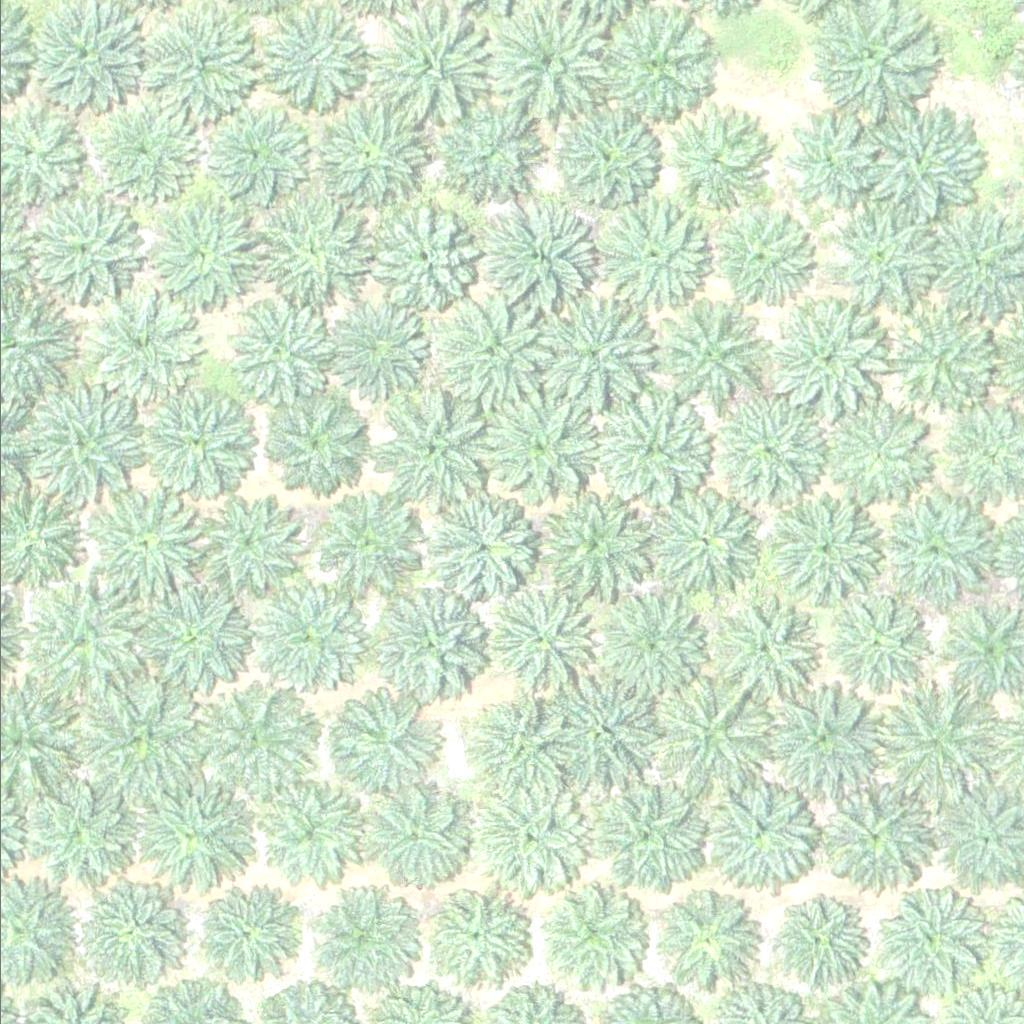Kelapa_Sawit: (460, 770, 586, 895), (855, 98, 981, 223), (594, 1, 720, 126), (243, 187, 369, 312), (133, 197, 259, 322), (368, 3, 494, 128), (8, 766, 134, 891), (25, 182, 151, 307), (250, 780, 364, 893), (328, 684, 442, 797), (137, 773, 251, 886), (143, 11, 257, 124), (88, 485, 202, 598), (659, 682, 772, 795), (546, 674, 659, 787), (481, 583, 594, 696), (770, 487, 883, 600), (774, 305, 887, 418), (647, 302, 760, 415), (534, 296, 647, 409), (600, 195, 713, 308), (426, 295, 539, 408), (483, 389, 596, 502), (194, 681, 307, 794), (189, 494, 302, 607), (143, 387, 256, 500), (368, 393, 481, 506), (323, 289, 436, 402), (73, 874, 186, 987), (88, 89, 201, 202), (29, 583, 142, 696), (819, 778, 933, 890), (706, 773, 820, 885), (880, 687, 994, 799), (477, 196, 591, 308), (361, 778, 475, 890), (373, 590, 487, 702), (87, 289, 201, 401), (27, 389, 141, 501), (413, 883, 526, 995), (533, 880, 646, 992), (595, 778, 708, 890), (762, 680, 875, 792), (649, 483, 762, 595), (531, 490, 644, 602), (822, 396, 935, 508), (712, 397, 825, 509), (596, 395, 709, 507), (418, 493, 531, 605), (304, 877, 417, 989), (301, 485, 414, 597), (240, 581, 353, 693), (138, 585, 251, 697), (214, 298, 327, 410), (365, 204, 478, 316), (311, 99, 424, 211), (84, 682, 197, 794), (878, 892, 979, 992), (826, 592, 927, 692), (719, 596, 820, 696), (602, 594, 703, 694), (884, 500, 985, 600), (891, 309, 992, 409), (831, 207, 932, 307), (710, 203, 811, 303), (778, 109, 879, 209), (263, 395, 364, 495), (195, 102, 296, 202), (255, 14, 356, 114), (765, 896, 865, 996), (655, 897, 755, 997), (664, 107, 764, 207), (555, 105, 655, 205), (432, 90, 532, 190), (190, 888, 290, 988), (480, 703, 555, 778)
